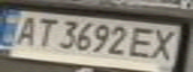2: (106, 22, 136, 58)
3: (54, 18, 78, 52)
6: (72, 20, 96, 53)
9: (90, 21, 112, 56)
A: (6, 14, 42, 47)
E: (124, 25, 163, 61)
T: (27, 16, 60, 50)
X: (145, 27, 184, 62)
